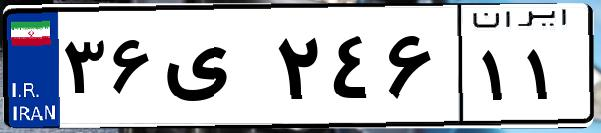1: (475, 38, 525, 113), (525, 38, 570, 115)
2: (270, 28, 330, 110)
3: (57, 26, 110, 100)
4: (330, 28, 385, 110)
6: (385, 28, 445, 110), (110, 28, 158, 98)
ی: (158, 20, 270, 120)
